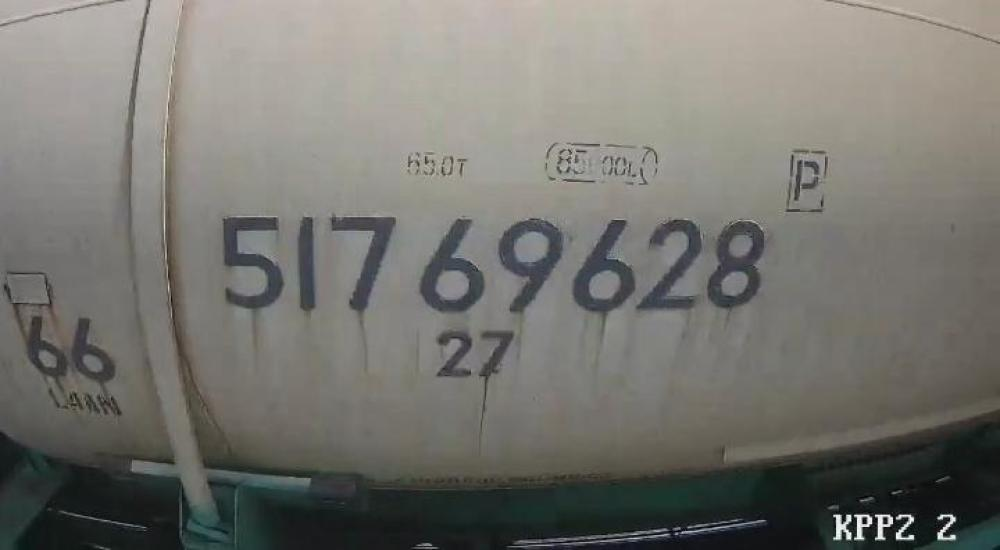Wagon-number: (217, 205, 772, 320)
